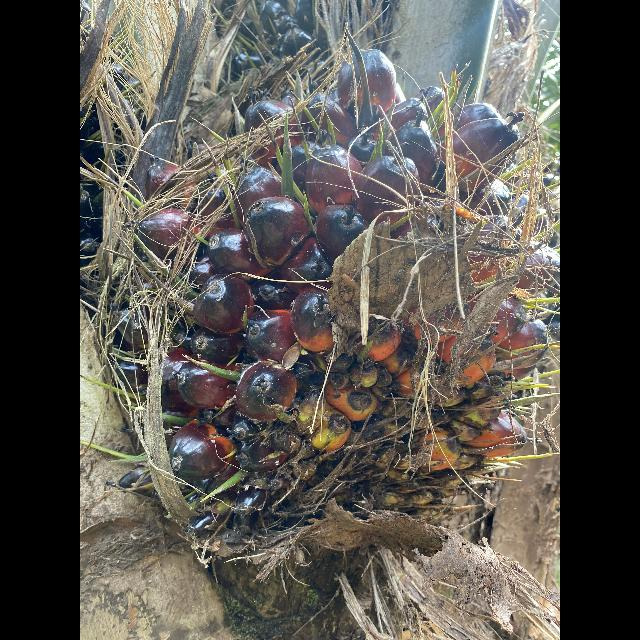Ripe: (124, 65, 560, 533)
